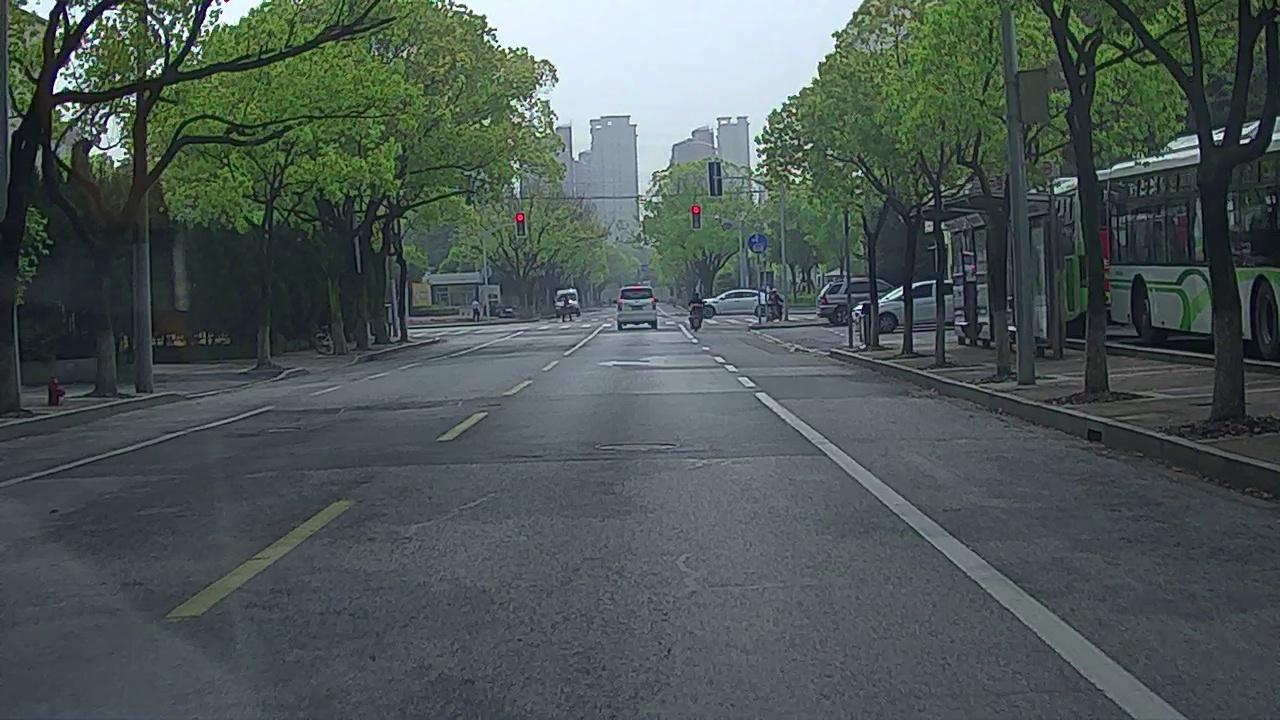traffic_light: (514, 212, 525, 237), (692, 205, 701, 229)
